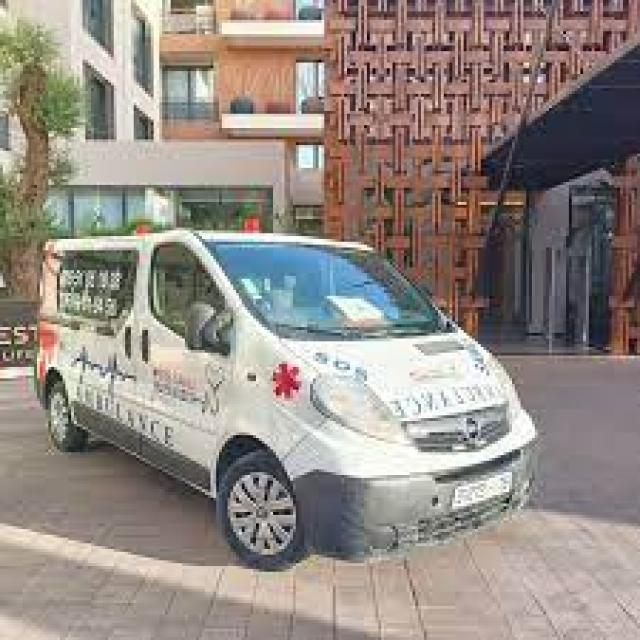ambulance: (21, 200, 546, 578)
